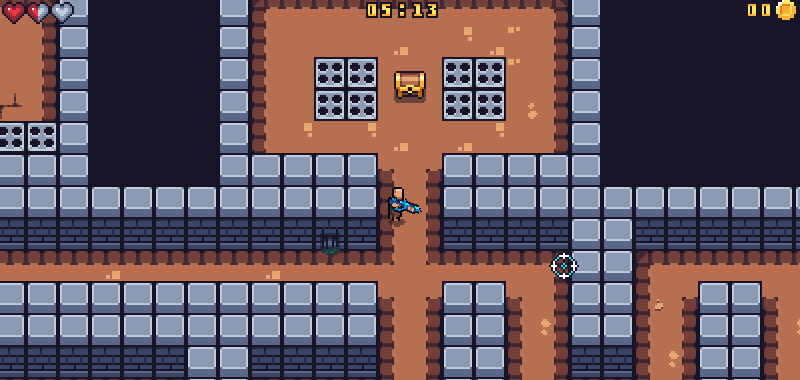trap_off: (315, 57, 378, 120), (443, 57, 505, 121), (1, 121, 57, 152)
treasury_close: (392, 70, 426, 103)
